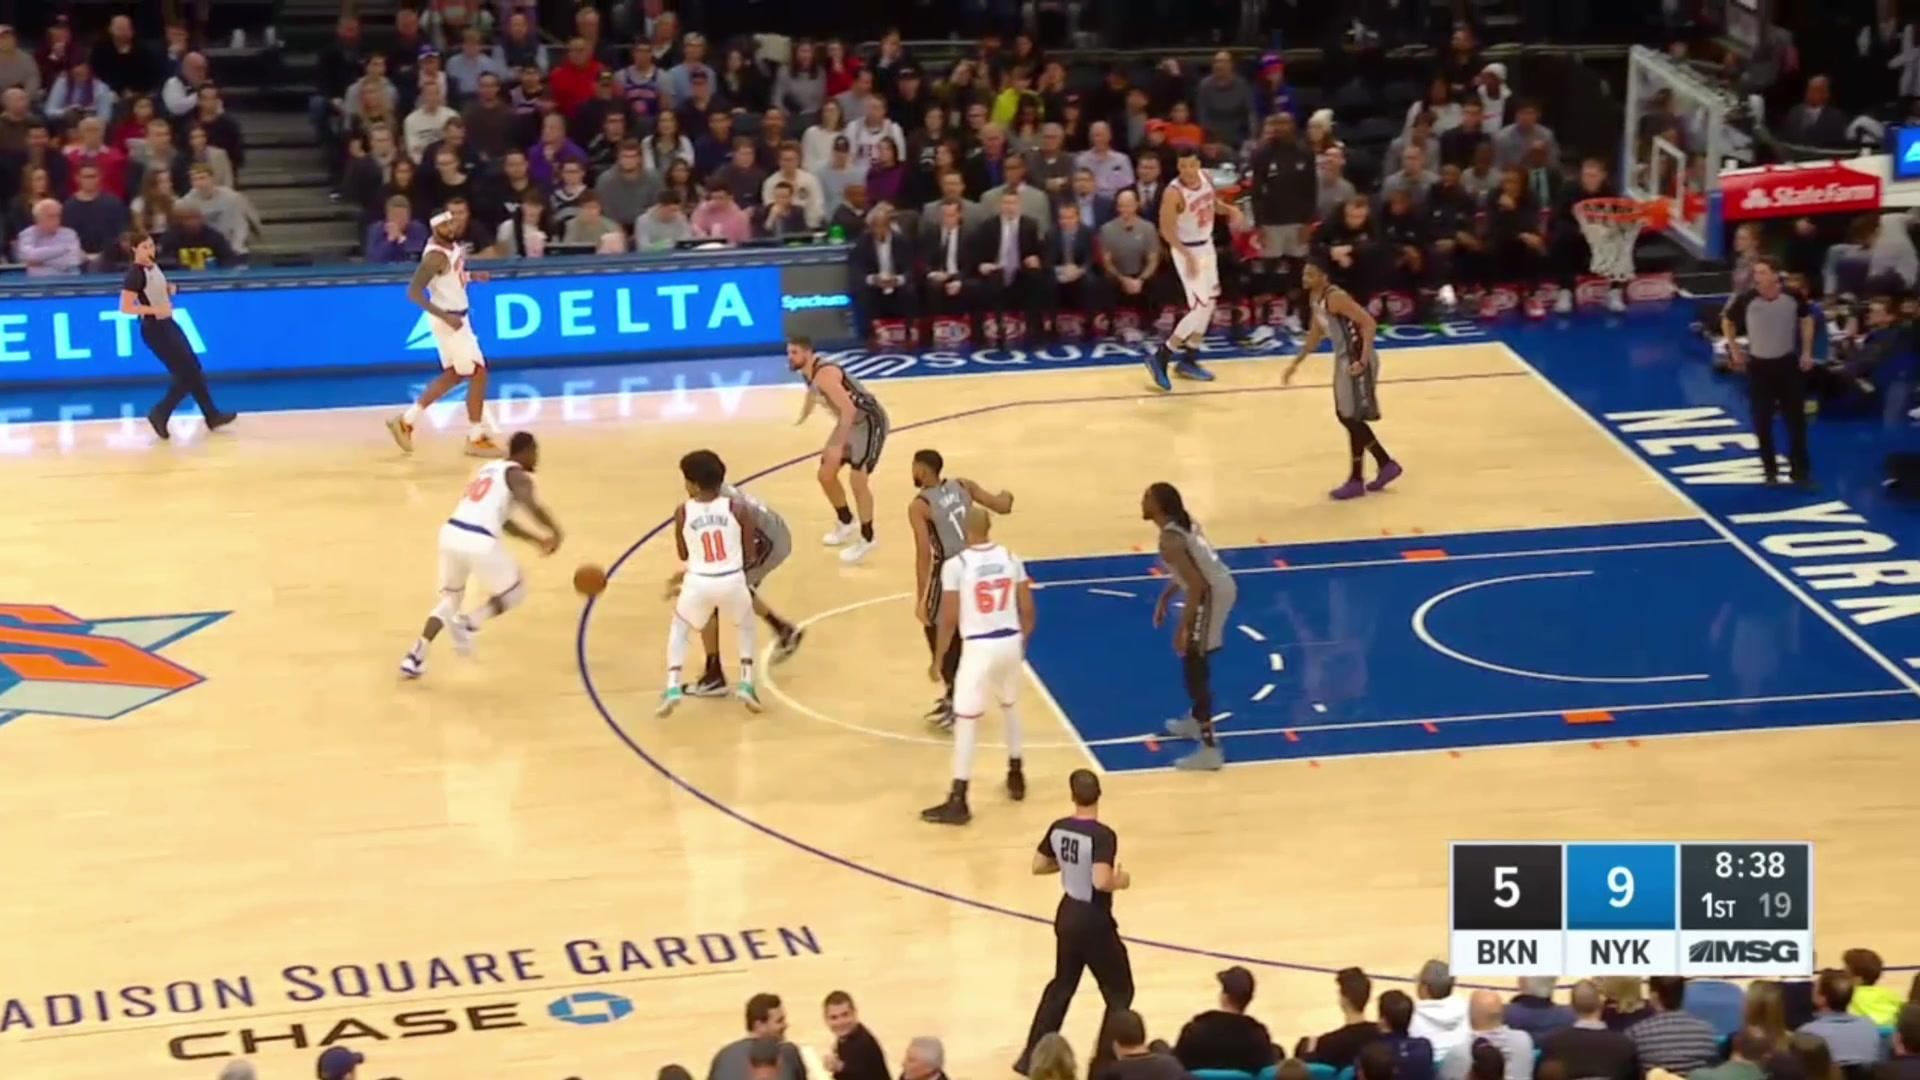no_foul: (653, 442, 811, 702)
